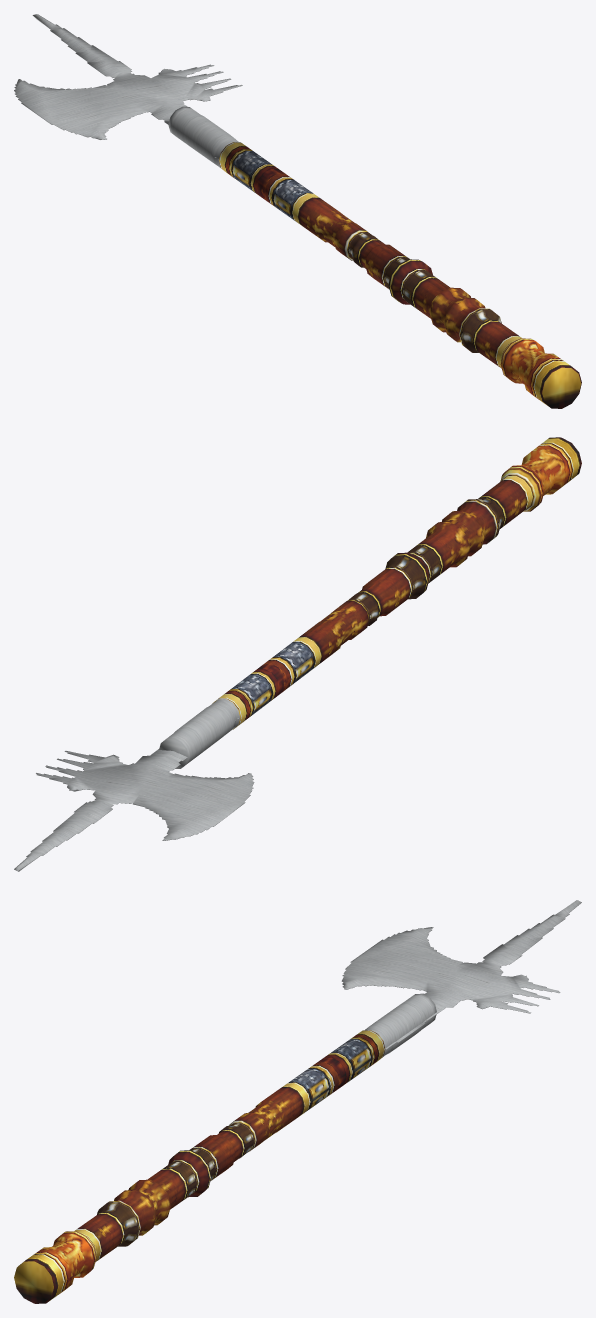
File: item_halberd3.glb
3 renders of one model, top to bottom at view 1: azimuth 30°, elevation 25°; view 2: azimuth 150°, elevation 25°; view 3: azimuth 330°, elevation 25°, orthographic. The views are drawn at different scales.
Parts seen in each view (by area): view 1: pole_halberd3; view 2: pole_halberd3; view 3: pole_halberd3.
Part boxes in pixels (x1,y1,x2,y2): pole_halberd3: [14, 14, 581, 408]; pole_halberd3: [14, 437, 581, 871]; pole_halberd3: [14, 900, 581, 1303].
Bounding box in the file's own units: 0.3972 × 0.0976 × 1.99.
1 material, 1 textured.
